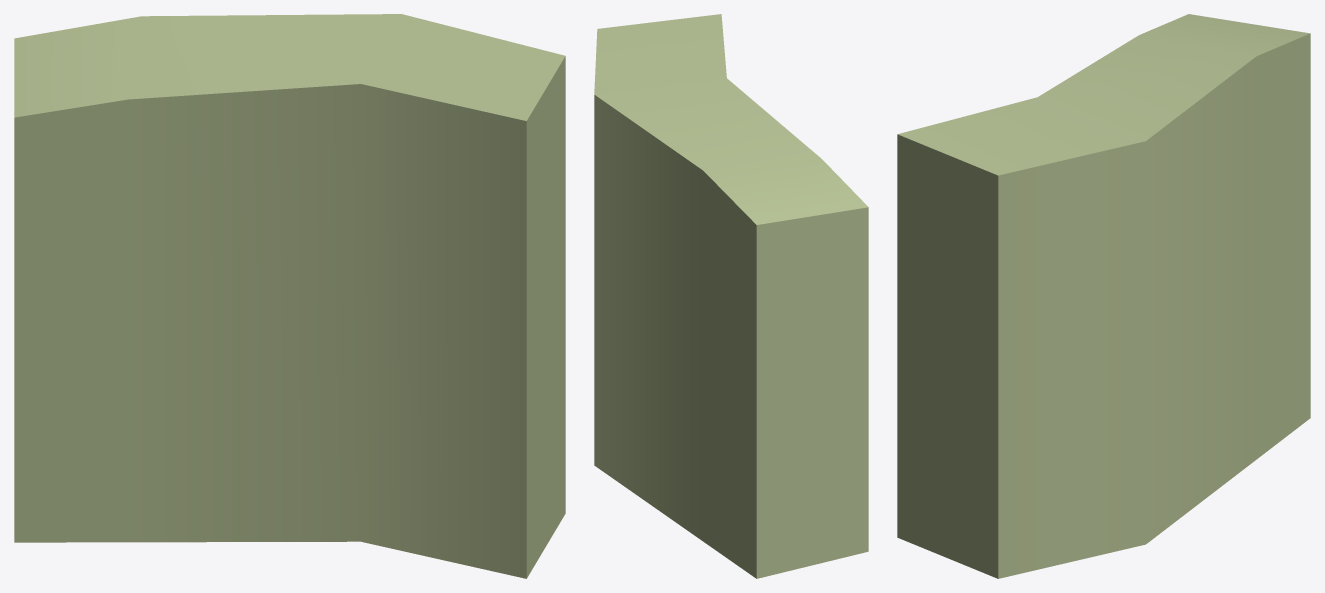
File: ground_17.gltf
3 views of the same model, side by side, from view 1: azimuth 30°, elevation 25°; view 2: azimuth 150°, elevation 25°; view 3: azimuth 270°, elevation 25° (orthographic). The views are drawn at different scales.
Parts seen in each view (by area): view 1: hwahong; view 2: hwahong; view 3: hwahong.
Boxes of the visible parts, bbox=[...] form: hwahong: bbox=[14, 14, 565, 578]; hwahong: bbox=[594, 14, 868, 578]; hwahong: bbox=[897, 14, 1310, 578].
Size of the model in its own units: 6.51 by 6.43 by 5.97.
